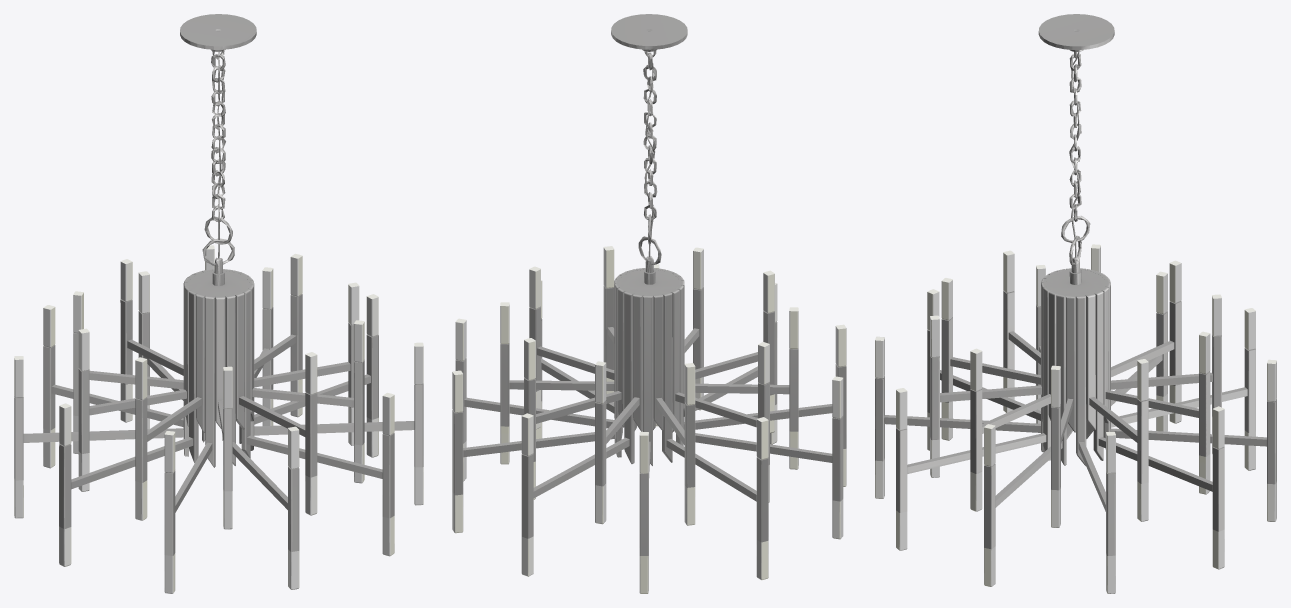
The picture shows the model from 3 angles, left to right: view 1: azimuth 30°, elevation 25°; view 2: azimuth 150°, elevation 25°; view 3: azimuth 270°, elevation 25°; orthographic projection.
Visible parts, largest first — view 1: solid_001_wire; view 2: solid_001_wire; view 3: solid_001_wire.
Boxes of the visible parts, left/top/right/bottom form: solid_001_wire: left=14, top=14, right=423, bottom=593; solid_001_wire: left=452, top=14, right=846, bottom=593; solid_001_wire: left=875, top=14, right=1276, bottom=593.
Size of the model in its own units: 0.8002 by 1.04 by 0.7947.
Materials: 1 (1 with a texture image).
